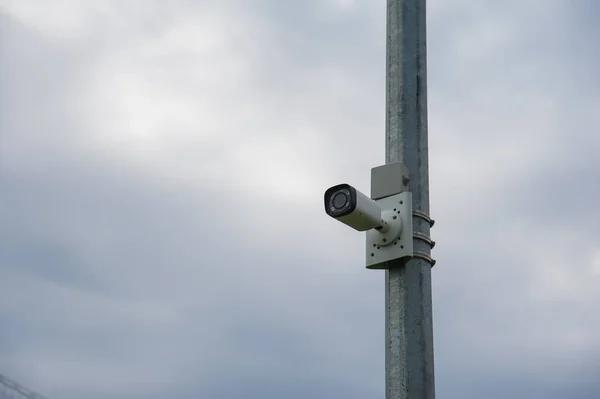Speed-Camera: (312, 175, 428, 273)
